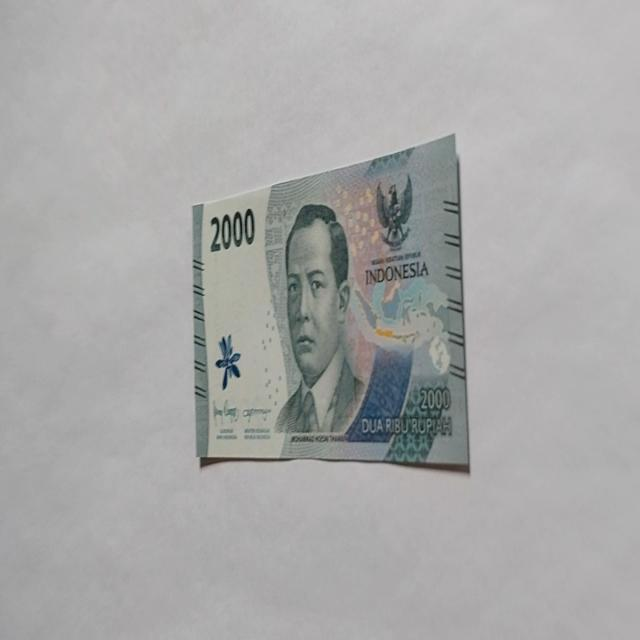dua ribu rupiah: (191, 132, 470, 472), (274, 202, 366, 438)
